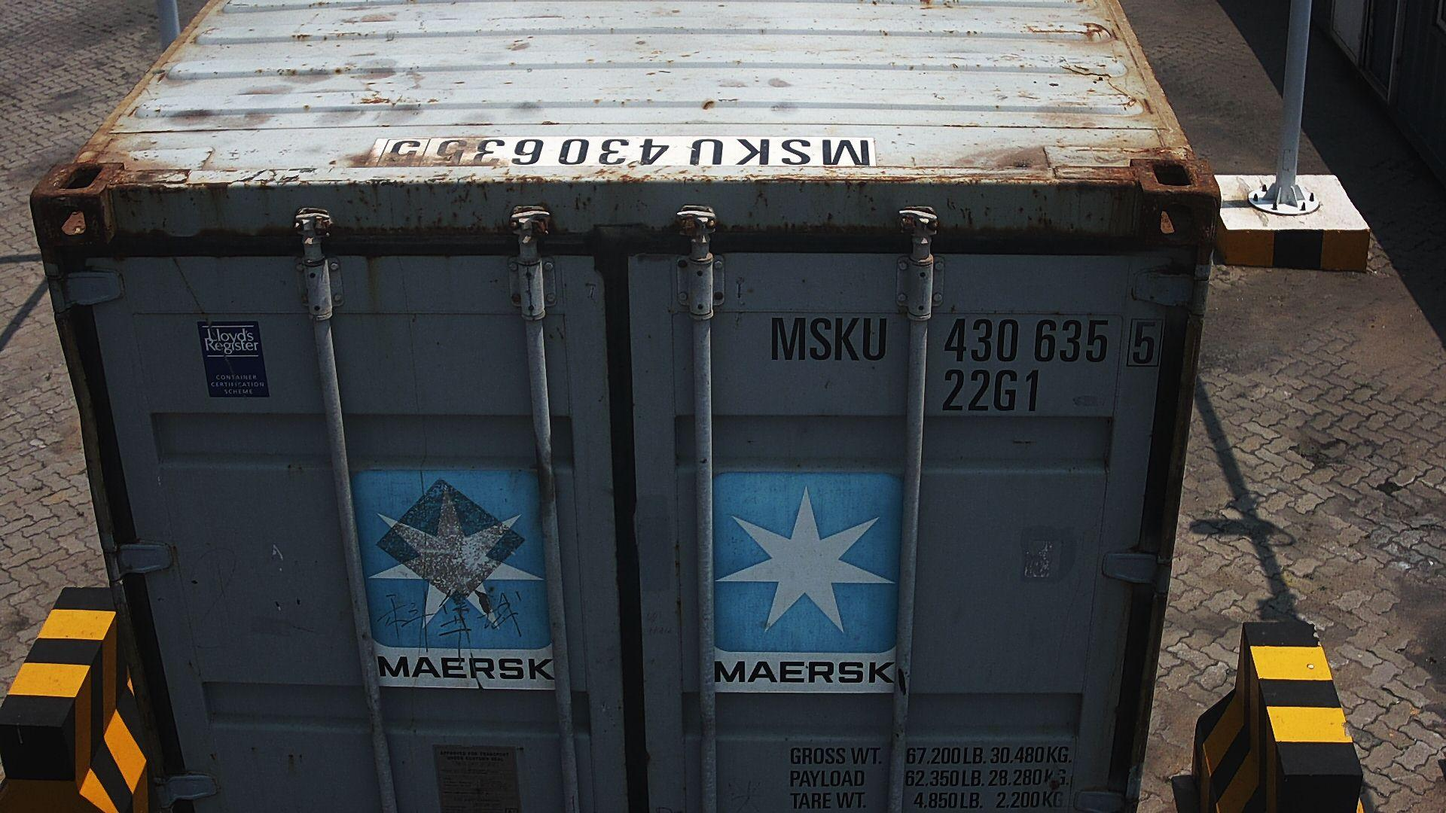container-numbers: (763, 312, 1167, 371), (371, 134, 878, 169), (935, 366, 1046, 416)
